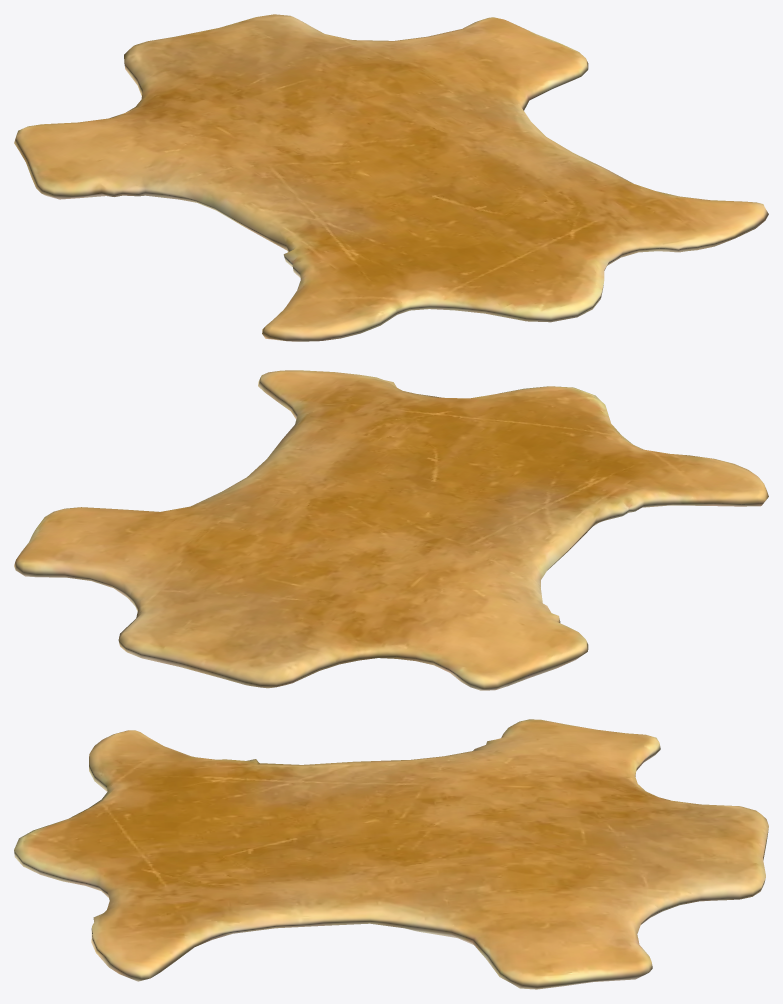
The picture shows the model from 3 angles, top to bottom: view 1: azimuth 30°, elevation 25°; view 2: azimuth 150°, elevation 25°; view 3: azimuth 270°, elevation 25°; orthographic projection.
Parts seen in each view (by area): view 1: SM_Leather_01_LOD0; view 2: SM_Leather_01_LOD0; view 3: SM_Leather_01_LOD0.
Part boxes in pixels (x1,y1,x2,y2): SM_Leather_01_LOD0: [14, 14, 768, 341]; SM_Leather_01_LOD0: [14, 370, 768, 690]; SM_Leather_01_LOD0: [14, 719, 768, 989].
Bounding box in the file's own units: 0.6461 × 0.0442 × 0.7842.
1 material, 1 textured.
